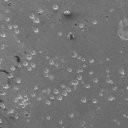corrosion: (16, 95, 29, 108), (62, 10, 73, 19), (69, 49, 78, 59), (116, 68, 126, 77), (67, 32, 76, 41), (106, 94, 116, 102), (104, 77, 114, 85), (78, 21, 86, 30), (25, 52, 33, 60), (52, 4, 60, 11), (80, 96, 87, 104), (61, 90, 68, 98), (16, 61, 23, 69), (13, 29, 21, 36), (6, 108, 15, 114), (9, 64, 16, 71), (15, 77, 22, 84), (52, 88, 59, 95), (84, 83, 91, 90), (88, 57, 95, 64), (49, 59, 56, 66), (66, 67, 73, 74), (68, 111, 75, 118), (24, 111, 31, 118), (7, 24, 14, 31), (29, 12, 35, 20), (1, 102, 7, 110), (57, 30, 63, 38), (33, 27, 39, 34), (5, 15, 11, 22), (43, 67, 50, 73), (32, 85, 39, 91), (14, 29, 21, 35), (76, 75, 83, 81), (92, 77, 98, 84), (30, 63, 36, 70), (3, 84, 10, 90), (1, 32, 7, 39), (59, 82, 66, 88), (45, 114, 51, 121), (77, 67, 84, 73), (22, 61, 29, 67), (92, 19, 99, 25), (45, 100, 51, 106), (57, 95, 63, 101), (66, 88, 72, 94), (58, 119, 64, 125), (92, 98, 98, 104), (108, 7, 114, 13), (34, 18, 39, 24), (88, 70, 94, 75), (13, 25, 19, 30)
